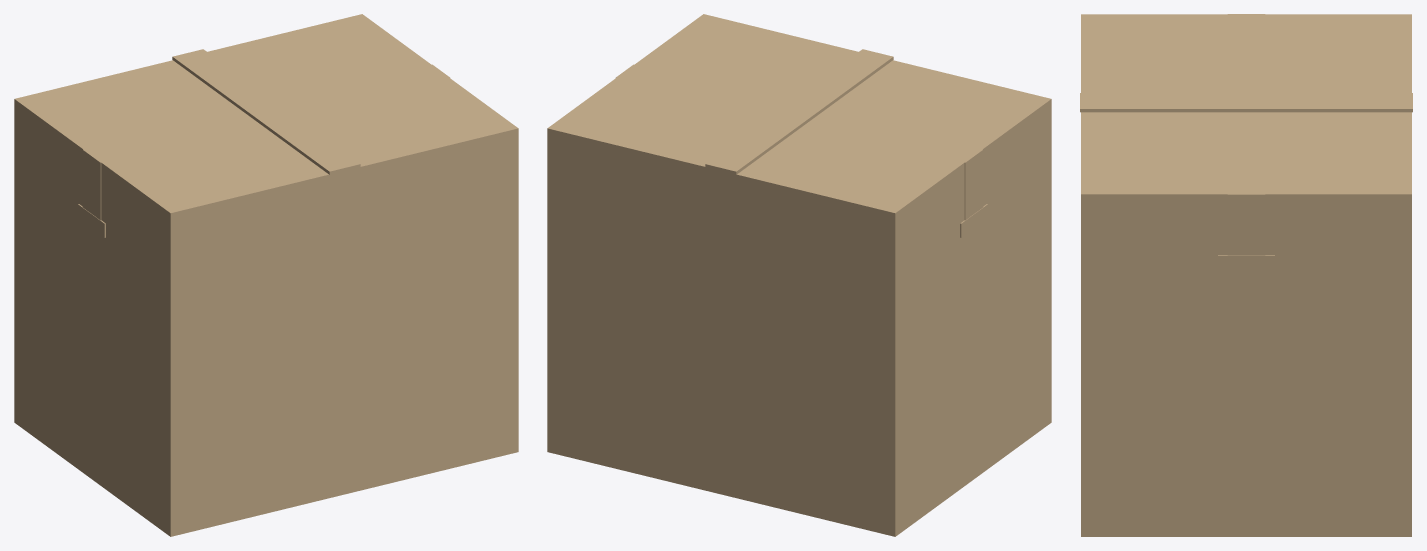
3 views of the same model, side by side, from view 1: azimuth 30°, elevation 25°; view 2: azimuth 150°, elevation 25°; view 3: azimuth 270°, elevation 25° (orthographic). The views are drawn at different scales.
Parts seen in each view (by area): view 1: box; view 2: box; view 3: box.
Part boxes in pixels (x1,y1,x2,y2): box: [14, 14, 518, 536]; box: [547, 14, 1051, 536]; box: [1080, 14, 1412, 536].
Bounding box in the file's own units: 0.906 × 0.808 × 0.704.
